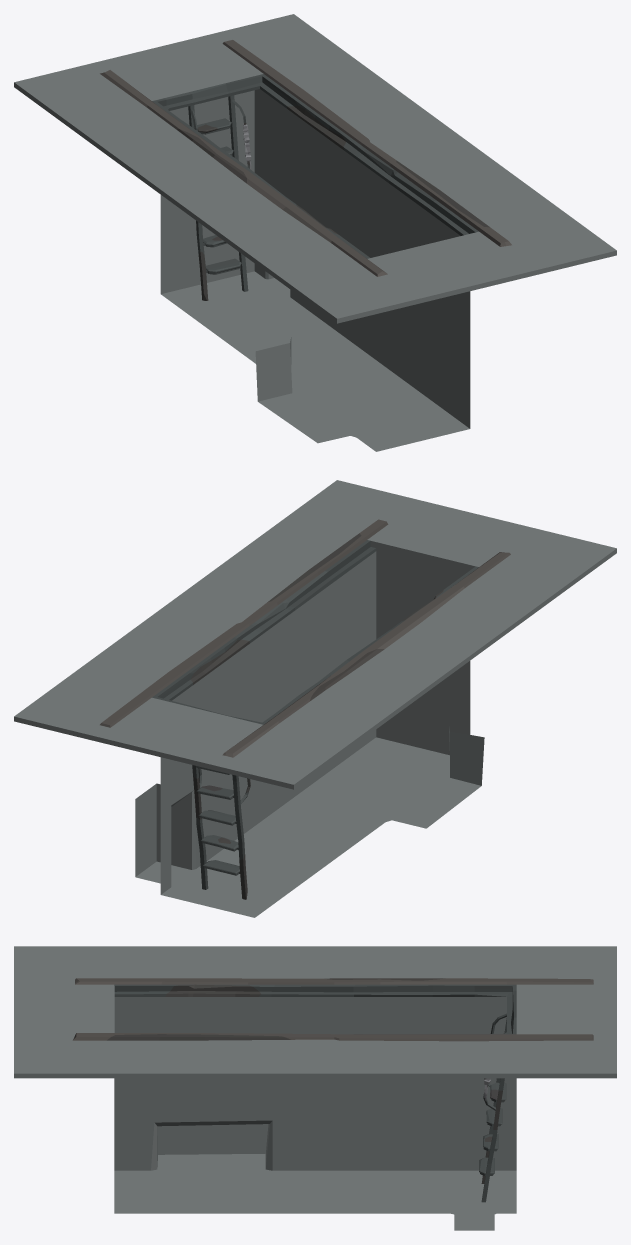
The model's file is SM_Floor_Pit_6x3_A.gltf.
3 renders of one model, top to bottom at view 1: azimuth 30°, elevation 25°; view 2: azimuth 150°, elevation 25°; view 3: azimuth 270°, elevation 25°, orthographic. The views are drawn at different scales.
Visible parts, largest first — view 1: SM_Floor_Pit_6x3_A; view 2: SM_Floor_Pit_6x3_A; view 3: SM_Floor_Pit_6x3_A.
Boxes of the visible parts, left/top/right/bottom form: SM_Floor_Pit_6x3_A: left=14, top=14, right=616, bottom=451; SM_Floor_Pit_6x3_A: left=14, top=480, right=616, bottom=917; SM_Floor_Pit_6x3_A: left=14, top=946, right=616, bottom=1230.
Bounding box in the file's own units: 3 × 2.03 × 6.
1 material, 1 textured.
